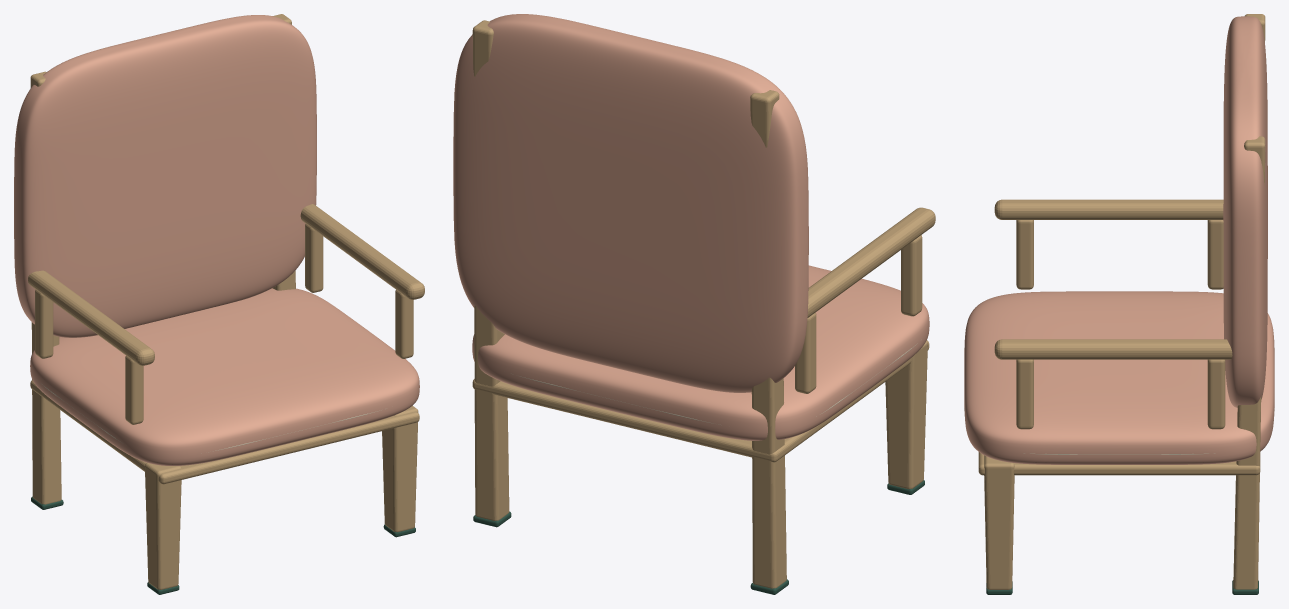
Rendered from visitor-chair.glb.
The picture shows the model from 3 angles, left to right: view 1: azimuth 30°, elevation 25°; view 2: azimuth 150°, elevation 25°; view 3: azimuth 270°, elevation 25°; orthographic projection. The views are drawn at different scales.
Visible parts, largest first — view 1: visitor-chair | Visitor and stool upholstery | warm peach, visitor-chair | Wood | warm honey oak, visitor-chair | Rubber | deep forest green; view 2: visitor-chair | Visitor and stool upholstery | warm peach, visitor-chair | Wood | warm honey oak, visitor-chair | Rubber | deep forest green; view 3: visitor-chair | Visitor and stool upholstery | warm peach, visitor-chair | Wood | warm honey oak.
Part boxes in pixels (left/top/right/bottom): visitor-chair | Visitor and stool upholstery | warm peach: left=14, top=15, right=419, bottom=465; visitor-chair | Wood | warm honey oak: left=28, top=14, right=424, bottom=589; visitor-chair | Rubber | deep forest green: left=31, top=496, right=415, bottom=594; visitor-chair | Visitor and stool upholstery | warm peach: left=453, top=14, right=929, bottom=440; visitor-chair | Wood | warm honey oak: left=472, top=20, right=935, bottom=588; visitor-chair | Rubber | deep forest green: left=473, top=480, right=924, bottom=594; visitor-chair | Visitor and stool upholstery | warm peach: left=964, top=16, right=1274, bottom=464; visitor-chair | Wood | warm honey oak: left=978, top=14, right=1265, bottom=589.
Size of the model in its own units: 1.3 by 1.85 by 1.12.
